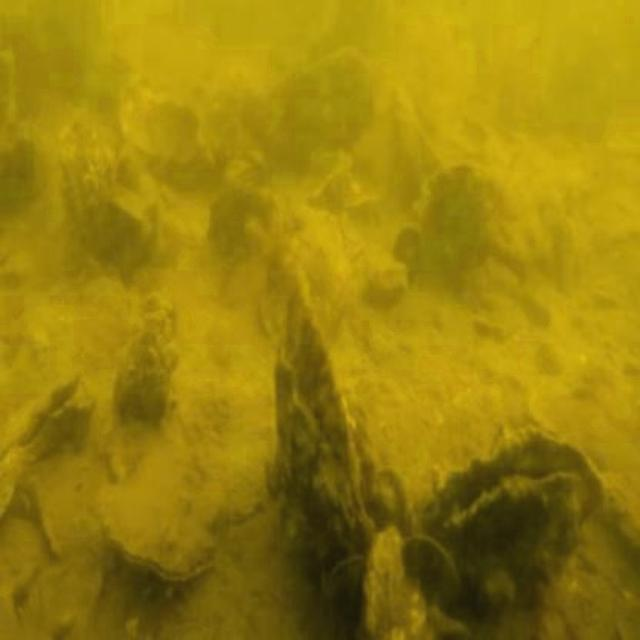Oyster-Closed: (274, 277, 365, 556), (100, 464, 220, 578), (260, 206, 344, 339), (352, 520, 441, 638), (25, 453, 111, 567), (295, 49, 379, 136), (59, 115, 113, 238), (424, 159, 493, 253), (114, 329, 170, 426), (208, 188, 277, 260)
Oyster-Open: (424, 436, 606, 591), (0, 372, 102, 520)
